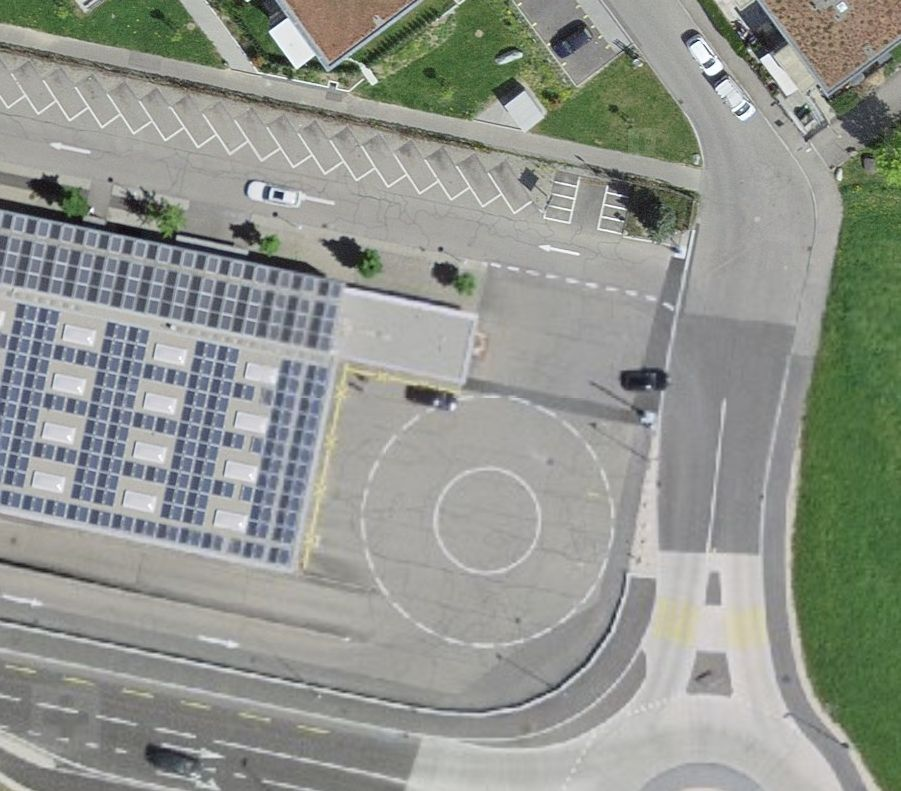solar: (1, 217, 345, 572)
